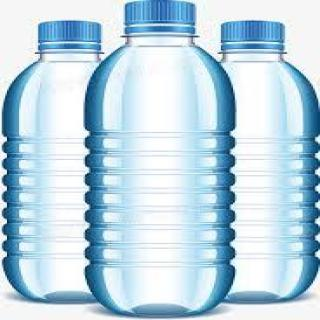Plastic-bottle: (81, 2, 239, 319), (3, 19, 118, 307), (216, 18, 320, 307)
